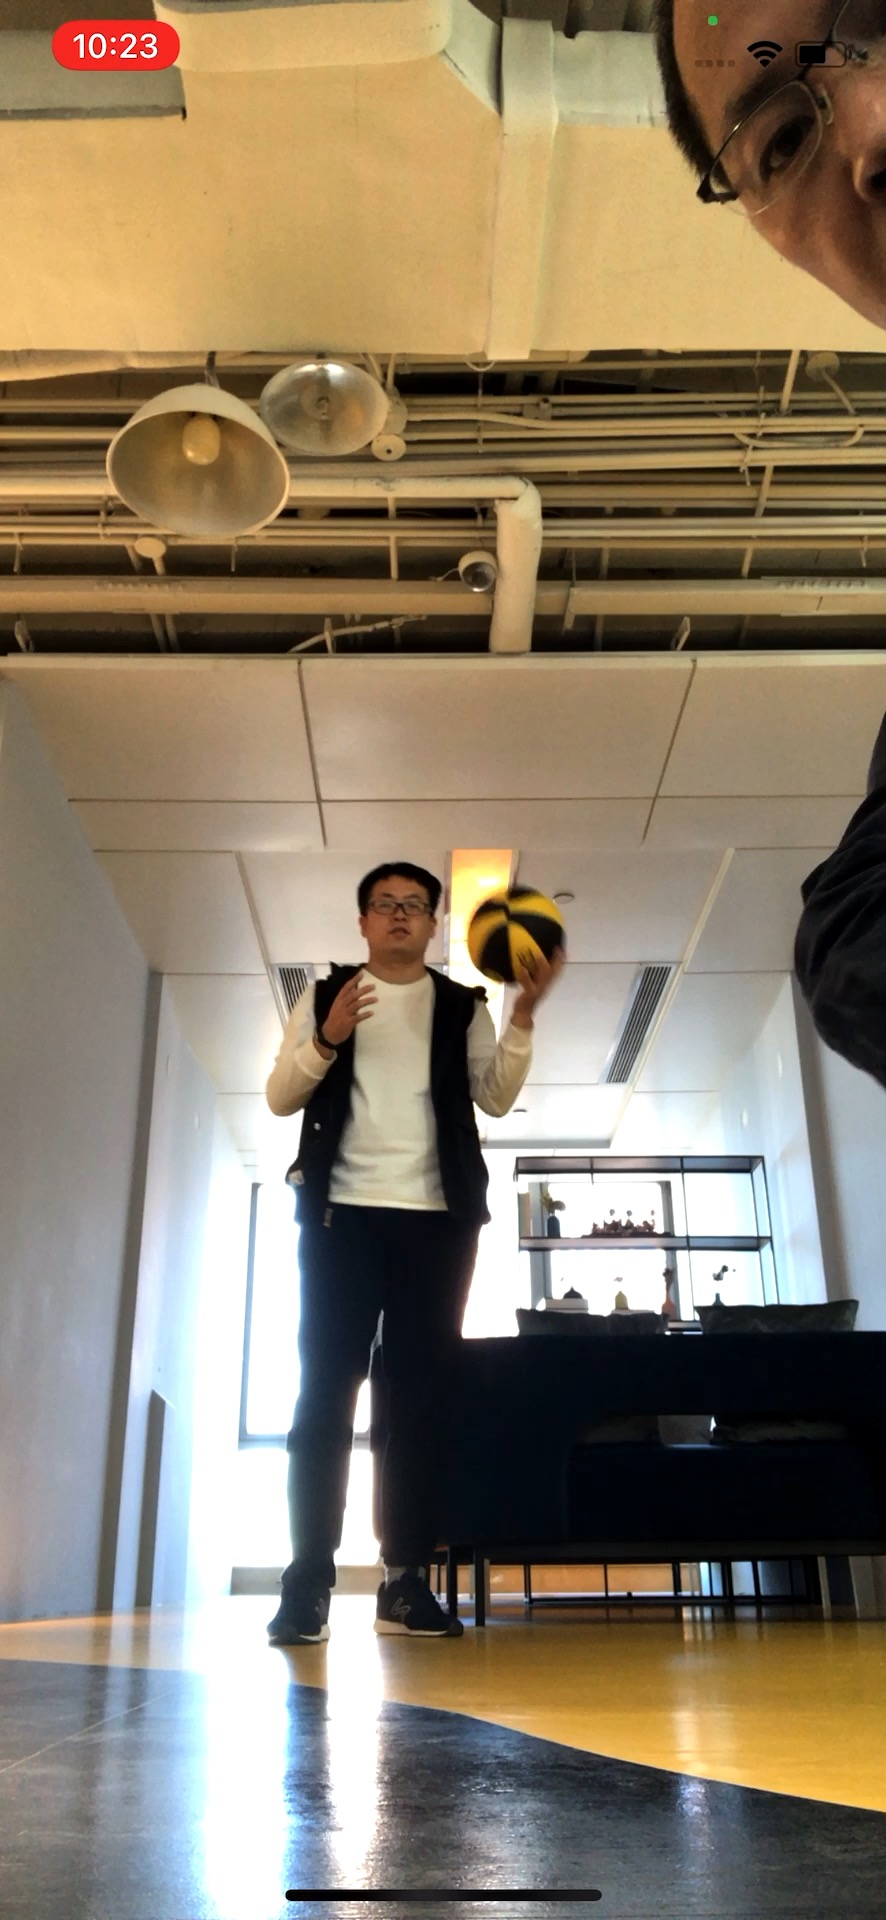ball: (465, 884, 570, 986)
